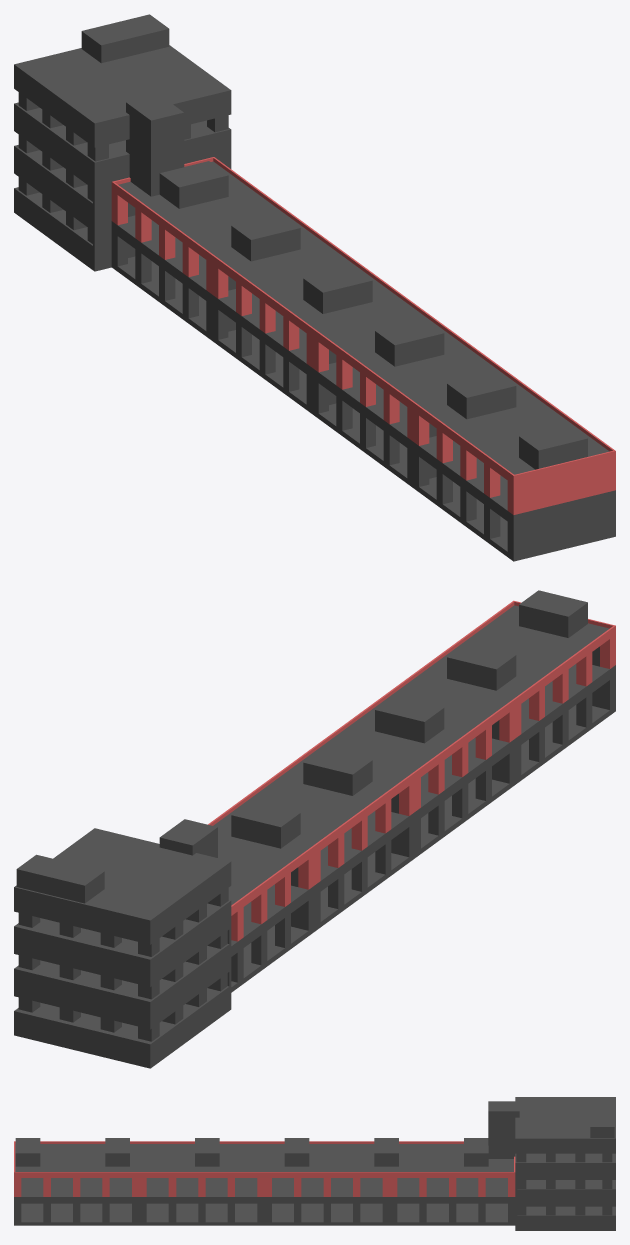
The picture shows the model from 3 angles, top to bottom: view 1: azimuth 30°, elevation 25°; view 2: azimuth 150°, elevation 25°; view 3: azimuth 270°, elevation 25°; orthographic projection. The views are drawn at different scales.
Parts seen in each view (by area): view 1: Cube.002; view 2: Cube.002; view 3: Cube.002.
Part boxes in pixels (x1=…): Cube.002: x1=14, y1=14, x2=615, y2=561; Cube.002: x1=14, y1=590, x2=615, y2=1068; Cube.002: x1=14, y1=1097, x2=615, y2=1230.
Bounding box in the file's own units: 8 × 9.3 × 49.
